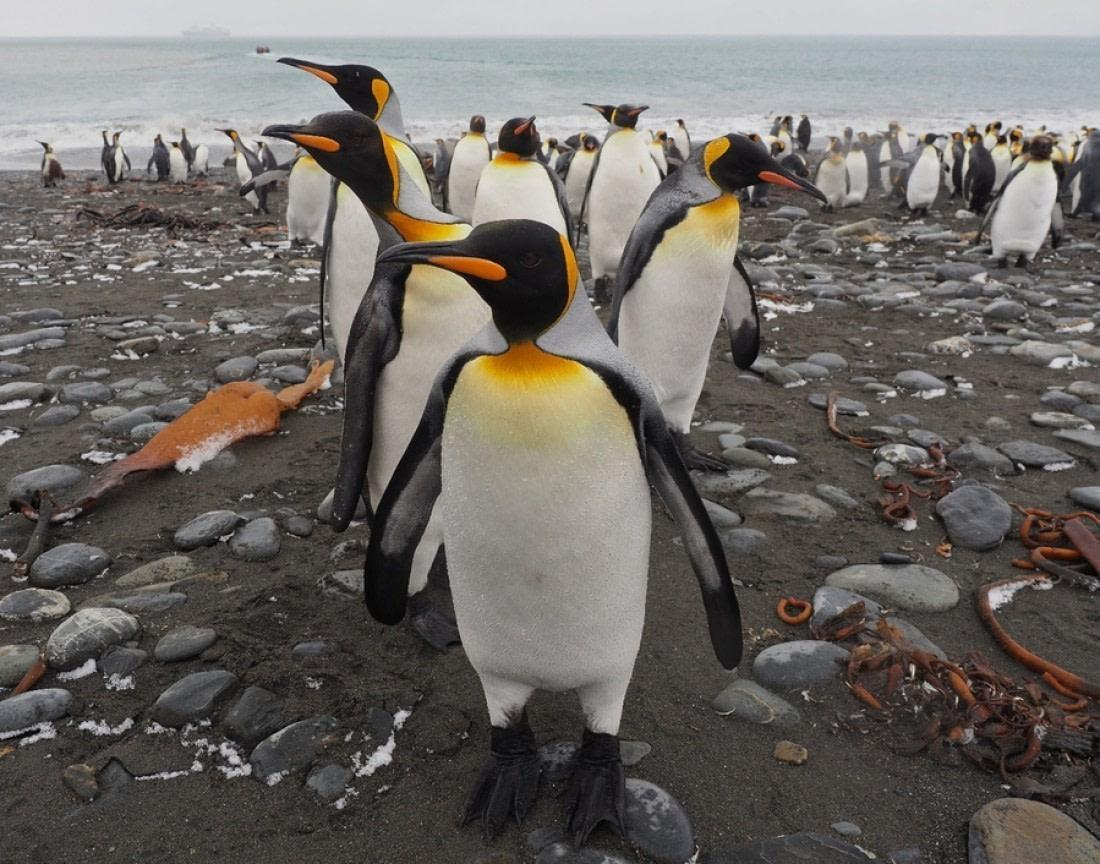Penguin: (365, 221, 743, 845), (608, 133, 822, 470), (331, 264, 489, 531), (264, 112, 470, 244), (279, 58, 429, 195), (582, 104, 663, 303), (473, 117, 573, 240), (320, 180, 380, 357), (986, 135, 1056, 266), (240, 154, 324, 249), (404, 507, 459, 649), (881, 133, 941, 214), (449, 116, 491, 221), (1068, 124, 1099, 222), (569, 135, 599, 220), (814, 138, 848, 209), (220, 129, 264, 183), (962, 131, 986, 217), (763, 133, 809, 176), (742, 129, 769, 201), (986, 135, 1015, 199), (845, 139, 870, 212), (880, 133, 905, 194), (941, 131, 963, 199), (36, 139, 64, 184), (107, 130, 132, 179), (860, 131, 882, 186), (978, 116, 1005, 159), (257, 140, 277, 191), (431, 134, 448, 193), (166, 140, 188, 184), (766, 112, 793, 147), (673, 115, 692, 159), (650, 131, 668, 177), (794, 114, 815, 153), (895, 122, 916, 159), (146, 136, 164, 179), (190, 143, 209, 178), (836, 127, 855, 161), (555, 148, 573, 182), (667, 138, 685, 171), (542, 137, 562, 166), (98, 129, 109, 179), (247, 187, 268, 211), (1007, 126, 1021, 158), (1051, 131, 1062, 165), (179, 129, 189, 158), (1031, 120, 1049, 134)
